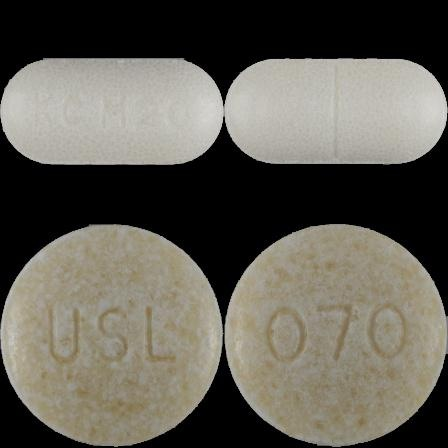0245-0058: (0, 0, 224, 224)
